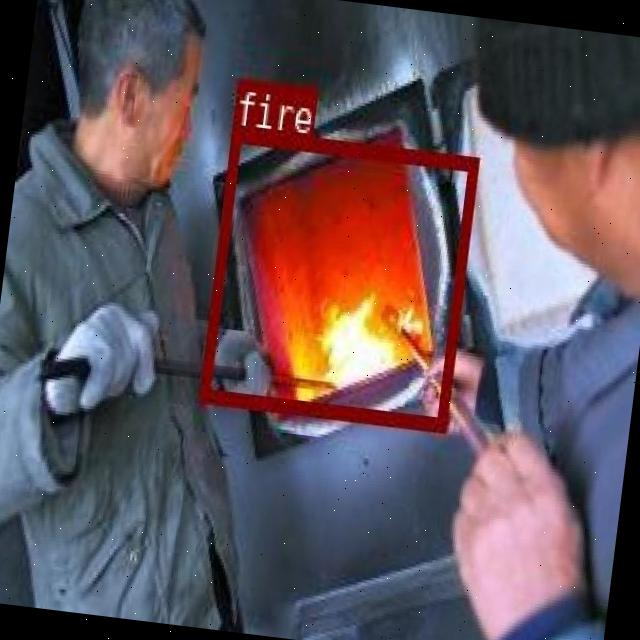fire: (198, 125, 477, 428)
